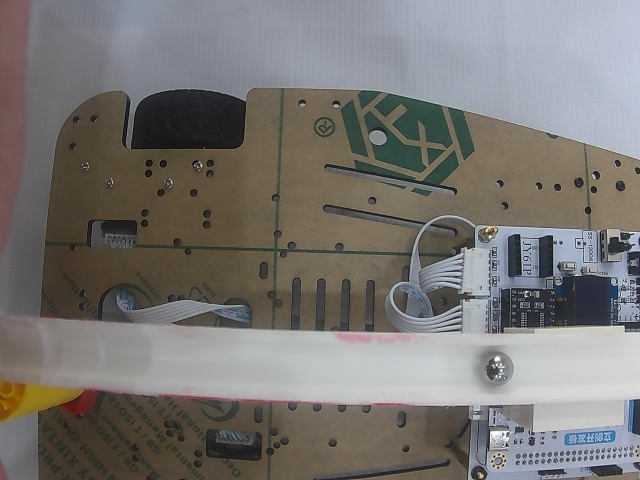steelball: (479, 351, 513, 384)
